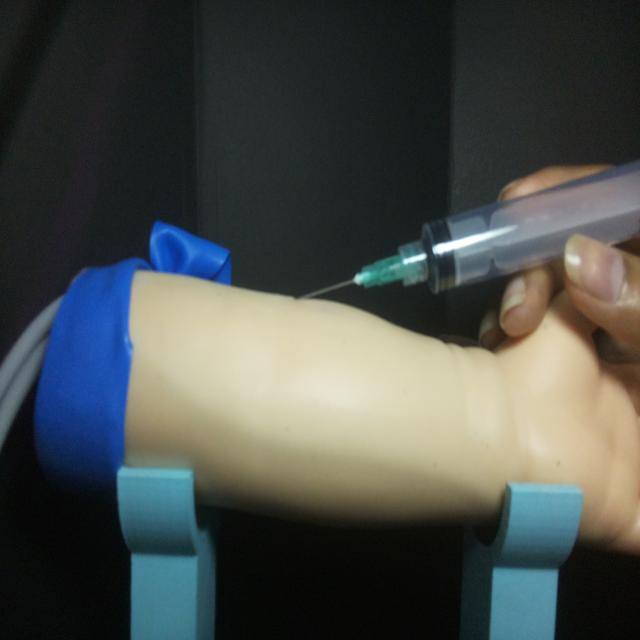15deg: (296, 156, 638, 304)
